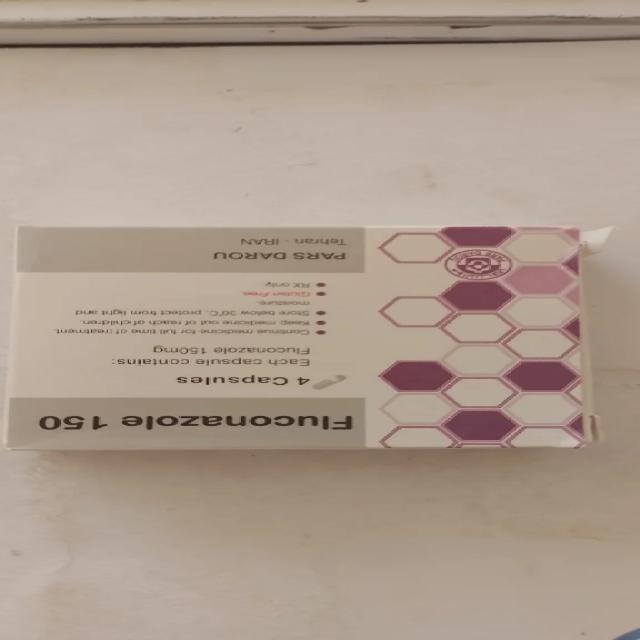drug-name: (42, 412, 370, 438)
